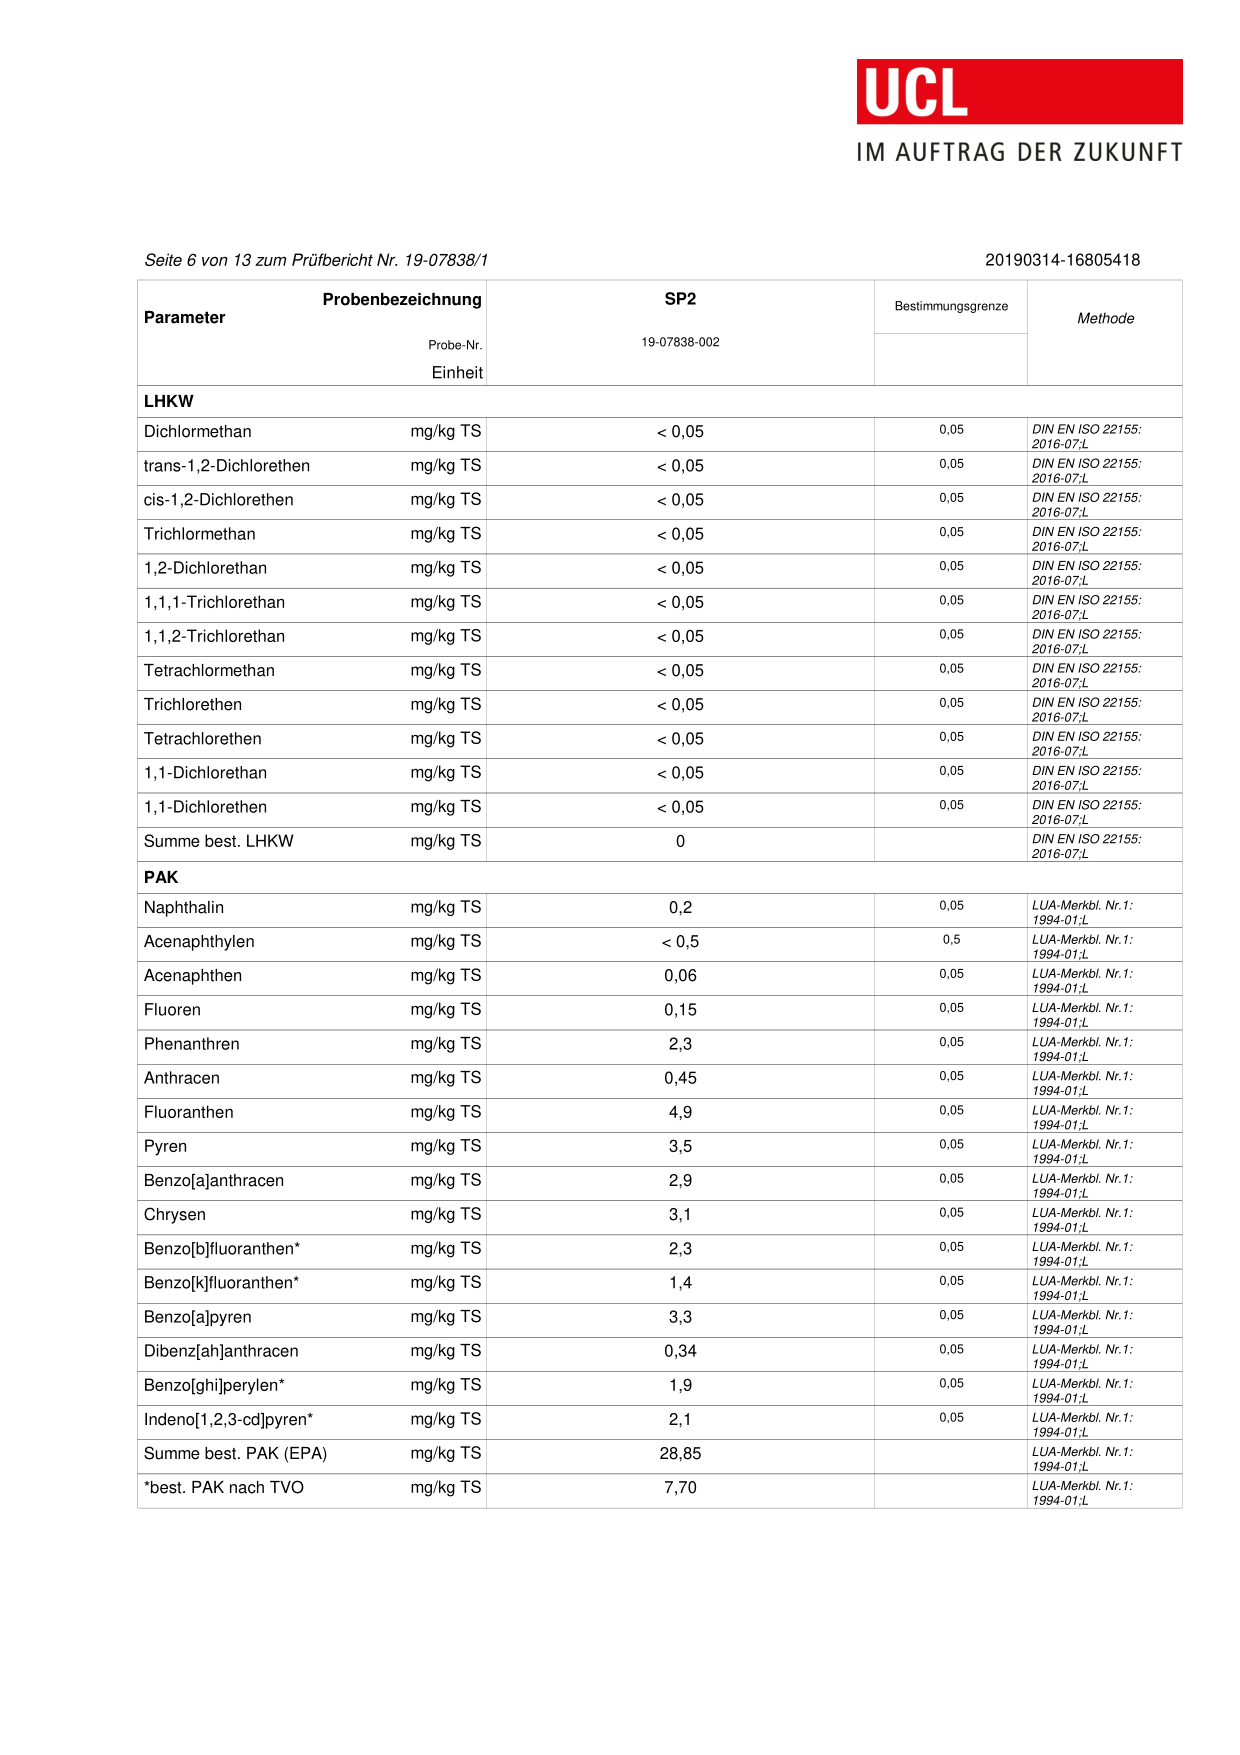table: (118, 887, 1196, 1520), (119, 413, 1190, 857)
